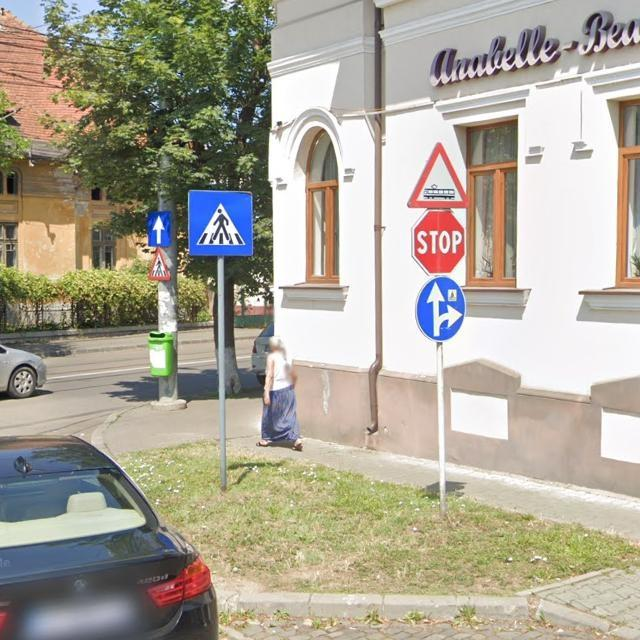info_crosswalk: (188, 189, 257, 257)
prio_stop: (413, 211, 466, 278)
warn_crosswalk: (144, 247, 171, 282)
